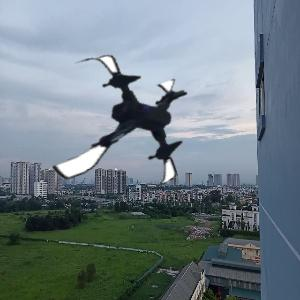drone: (41, 48, 200, 207)
